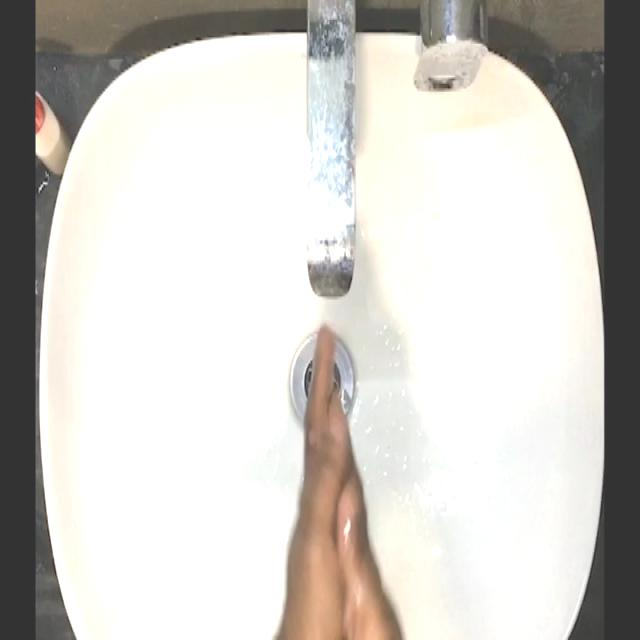step_1: (272, 312, 410, 630)
